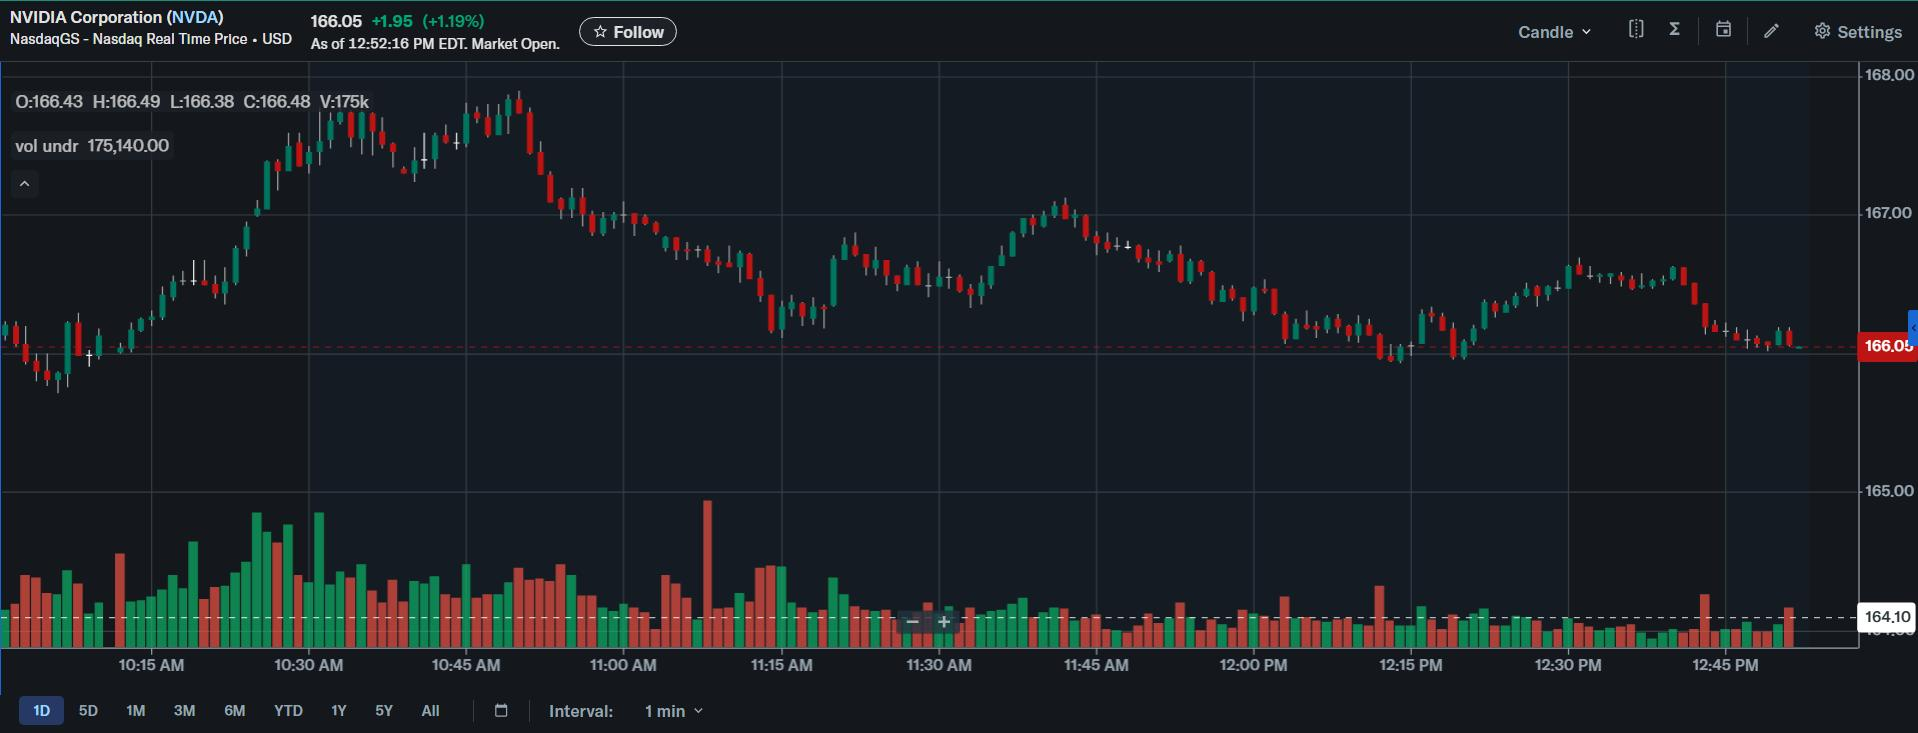Downtrend: (506, 82, 784, 351), (1054, 180, 1409, 387)
Sideways: (1555, 245, 1697, 307)
Uptrend: (961, 214, 1040, 311)
